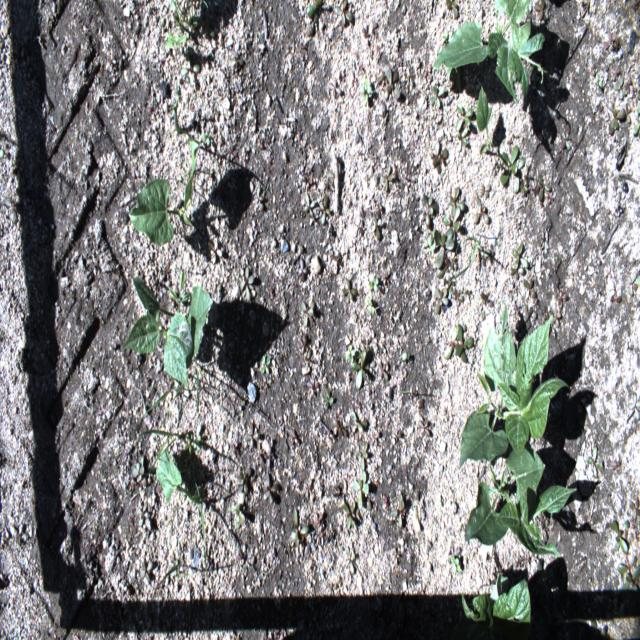crop: (459, 308, 571, 470), (433, 0, 549, 113), (464, 444, 577, 559), (121, 269, 215, 394), (126, 136, 197, 247), (461, 570, 532, 639), (156, 446, 200, 506), (476, 86, 492, 154)
weed: (498, 143, 528, 197), (442, 321, 478, 362), (434, 230, 456, 279), (444, 183, 467, 227), (617, 552, 637, 598), (510, 238, 532, 278), (288, 508, 310, 547), (454, 109, 474, 151), (367, 206, 387, 247), (610, 516, 630, 557), (181, 421, 203, 457), (351, 475, 371, 513), (608, 103, 628, 140), (352, 349, 369, 392), (178, 56, 200, 89), (237, 262, 256, 300), (431, 285, 453, 317), (426, 81, 448, 113), (381, 69, 403, 101), (236, 461, 255, 498), (583, 442, 602, 479), (128, 447, 148, 482), (304, 2, 328, 31), (202, 9, 226, 38), (4, 192, 22, 230), (389, 490, 405, 532), (9, 517, 29, 550), (473, 194, 491, 229), (342, 498, 360, 532), (536, 170, 553, 206), (259, 468, 278, 500), (164, 26, 187, 52), (316, 195, 335, 226), (334, 2, 356, 28), (601, 27, 620, 57), (421, 192, 437, 226), (207, 234, 223, 268), (339, 276, 359, 302), (358, 81, 378, 107), (432, 140, 448, 172), (298, 299, 316, 327), (138, 558, 156, 584), (610, 73, 630, 95), (481, 237, 497, 264), (166, 555, 183, 580), (355, 439, 369, 468), (296, 254, 311, 281), (360, 19, 379, 40), (444, 0, 466, 18), (381, 168, 398, 191), (230, 48, 247, 71), (303, 476, 318, 502), (136, 501, 151, 527), (365, 271, 381, 295), (516, 306, 536, 325), (326, 78, 344, 99), (376, 356, 389, 385), (392, 416, 403, 450), (245, 426, 259, 452), (350, 413, 370, 431), (11, 144, 26, 168), (198, 129, 214, 151), (345, 545, 357, 574), (449, 553, 464, 576), (523, 279, 538, 302), (200, 505, 207, 554), (319, 516, 330, 547), (398, 344, 412, 368), (558, 124, 570, 152), (304, 189, 316, 217), (323, 388, 337, 411), (630, 99, 638, 139), (609, 289, 625, 309), (343, 344, 356, 368), (554, 305, 566, 331), (471, 236, 479, 272), (232, 504, 246, 524), (480, 288, 494, 308), (259, 352, 271, 375), (296, 333, 311, 351), (629, 394, 638, 423), (629, 267, 637, 299), (418, 420, 431, 439), (366, 299, 381, 315), (453, 284, 464, 303), (537, 2, 547, 20), (595, 68, 604, 87), (416, 393, 425, 411), (479, 184, 492, 196)
